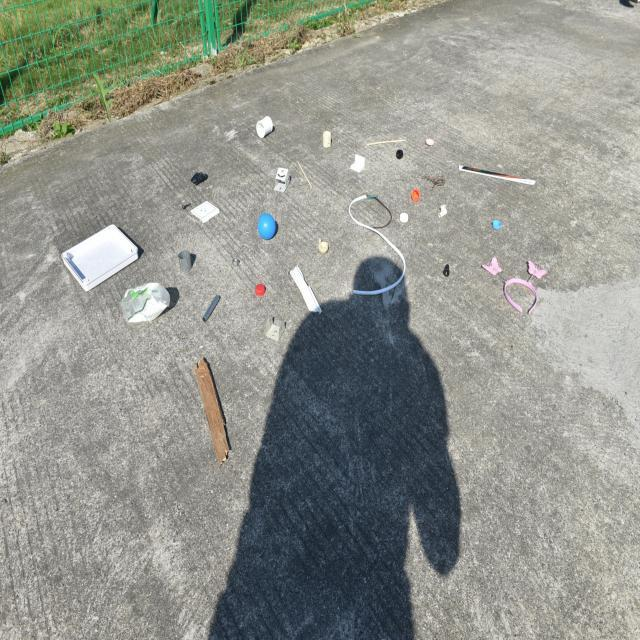Debris: (336, 188, 398, 301), (65, 217, 147, 292), (196, 344, 235, 471), (122, 278, 174, 332), (456, 163, 546, 194), (480, 249, 527, 301), (289, 262, 319, 318), (200, 289, 232, 329), (251, 206, 275, 249), (254, 112, 278, 150), (188, 196, 216, 228), (261, 309, 284, 344), (419, 166, 447, 190), (320, 123, 338, 155), (273, 163, 291, 194), (192, 166, 213, 189), (176, 246, 196, 269), (253, 276, 270, 302), (312, 233, 331, 255), (411, 185, 423, 212), (439, 257, 455, 277), (485, 212, 502, 228), (392, 146, 410, 161), (438, 206, 454, 222)
